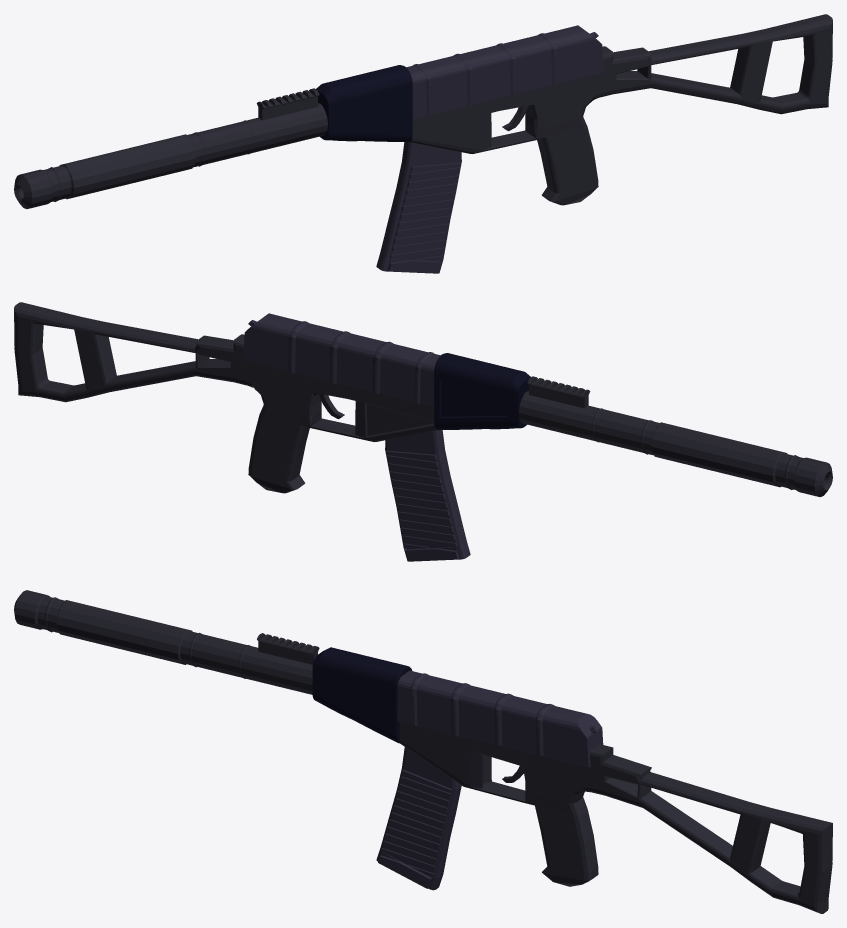
File: lowpoly_asval.glb
3 renders of one model, top to bottom at view 1: azimuth 30°, elevation 25°; view 2: azimuth 150°, elevation 25°; view 3: azimuth 330°, elevation 25°, orthographic.
Visible parts, largest first — view 1: base.weapon, barrel, base.holder, Magazine, gas.block; view 2: base.weapon, barrel, base.holder, Magazine, gas.block; view 3: base.weapon, barrel, base.holder, Magazine, gas.block.
Part boxes in pixels (x1,y1,x2,y2): base.weapon: (409, 14, 832, 205); barrel: (14, 88, 327, 208); base.holder: (406, 25, 603, 118); Magazine: (376, 142, 461, 273); gas.block: (316, 65, 412, 141); base.weapon: (14, 302, 437, 493); barrel: (519, 376, 832, 496); base.holder: (243, 313, 440, 406); Magazine: (385, 430, 470, 561); gas.block: (434, 353, 530, 429); base.weapon: (399, 722, 832, 913); barrel: (14, 590, 319, 694); base.holder: (397, 670, 603, 767); Magazine: (376, 747, 461, 890); gas.block: (312, 647, 412, 743).
Bounding box in the file's own units: 4.94 × 1.24 × 0.1879.
